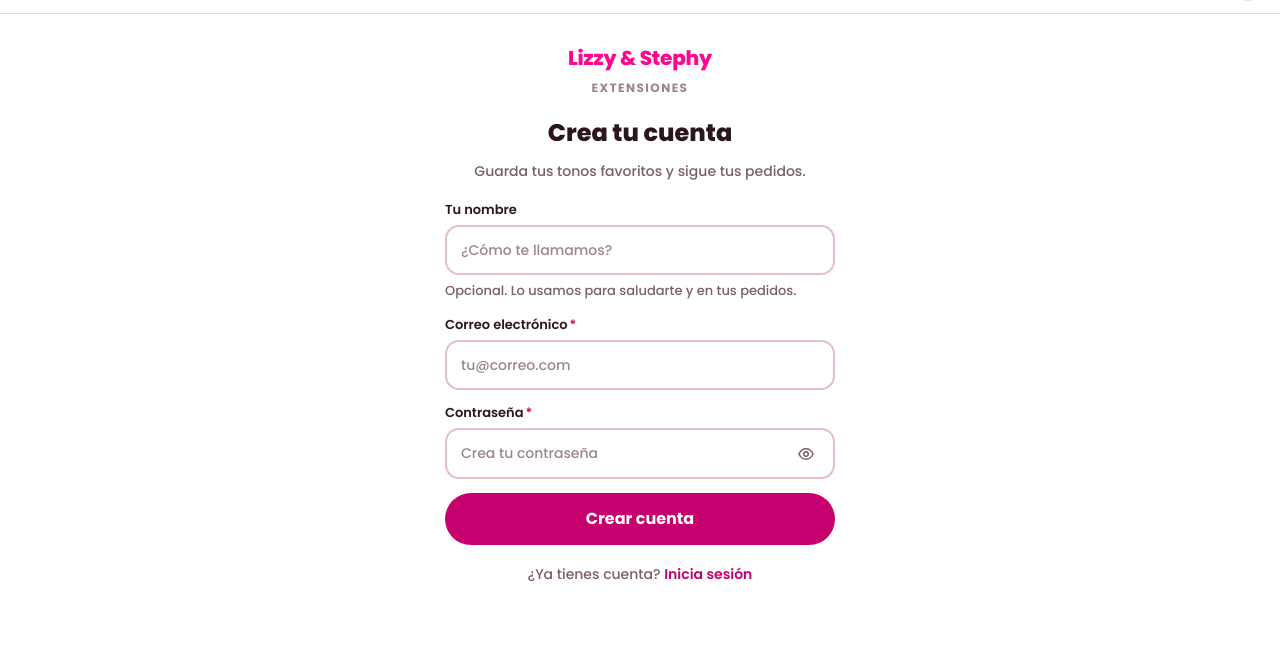
RegistroCliente · comprobación del correo › si ya tiene cuenta lo dice y ofrece iniciar sesión, sin mandar el alta
Type "ana@example.com" into the field labelled "Correo electrónico*".
click(640, 365); type("ana@example.com")  # box [461,342,819,388]
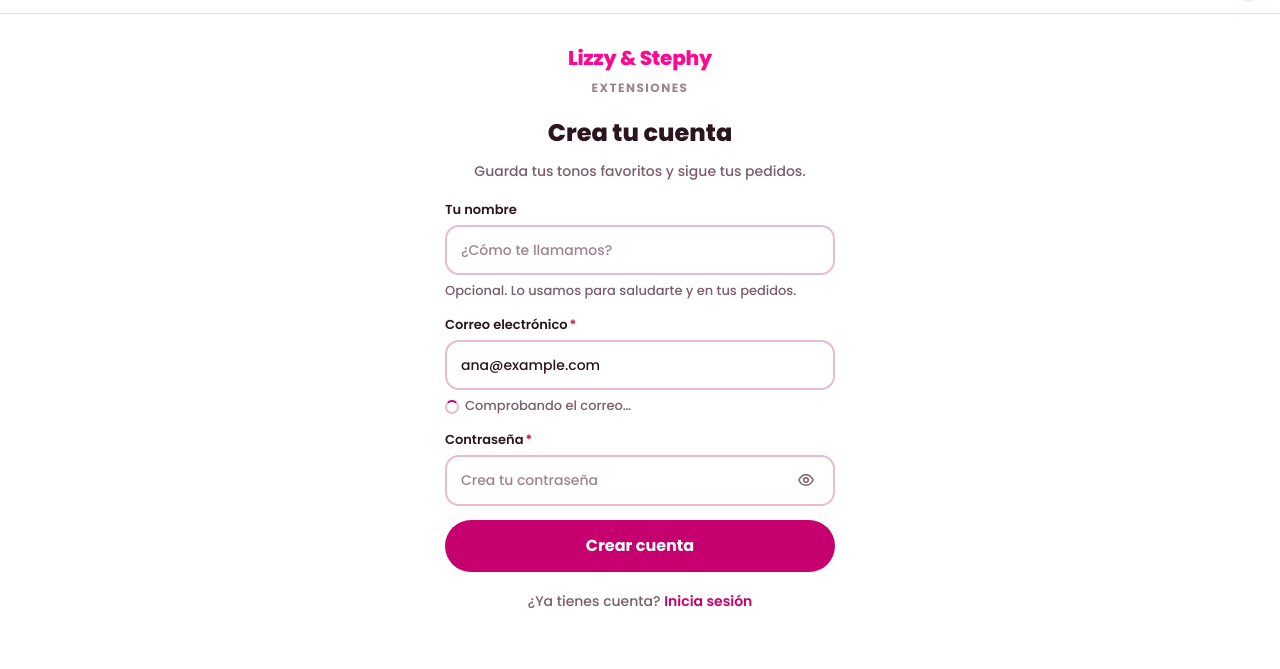
Type "bicicleta-verde-77" into the password field labelled "Contraseña*".
click(623, 480); type("bicicleta-verde-77")  # box [461,457,785,504]
(page scrolled)
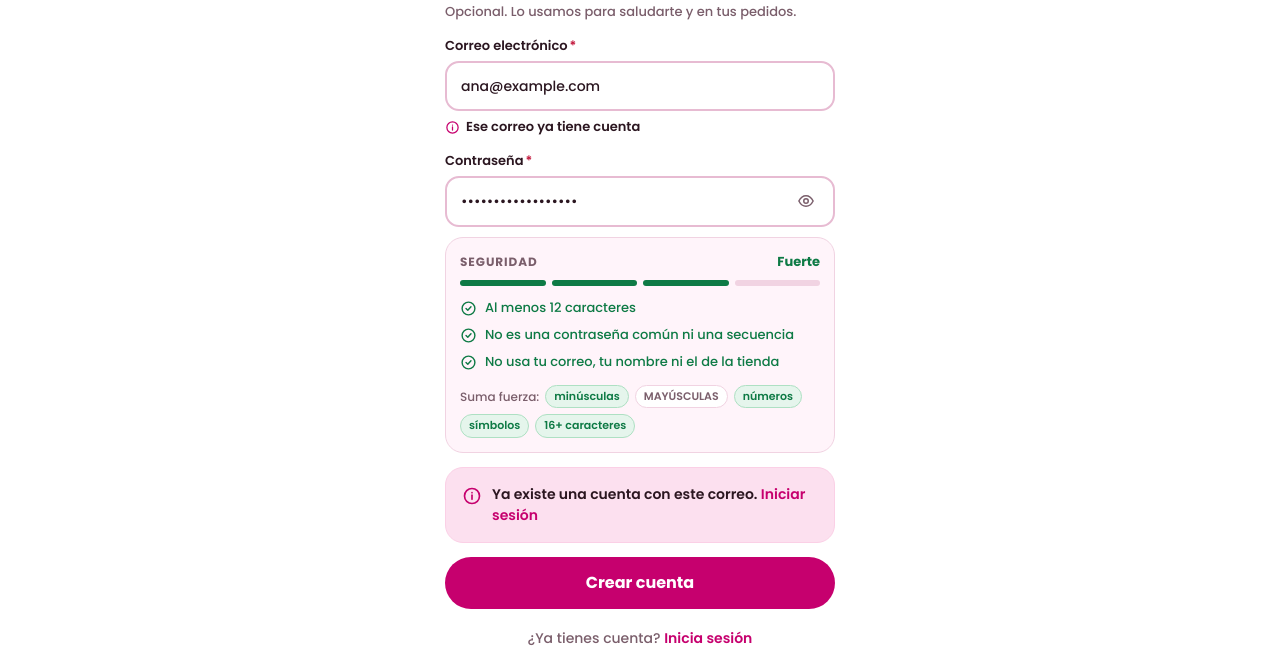
Expected: the text "Ese correo ya tiene cuenta" is shown, [466,117,640,138]
Expected: the link "Iniciar sesión" is shown, [492,484,805,525]
Click the button "Crear cuenta".
click(640, 583)  # box [445,557,835,609]
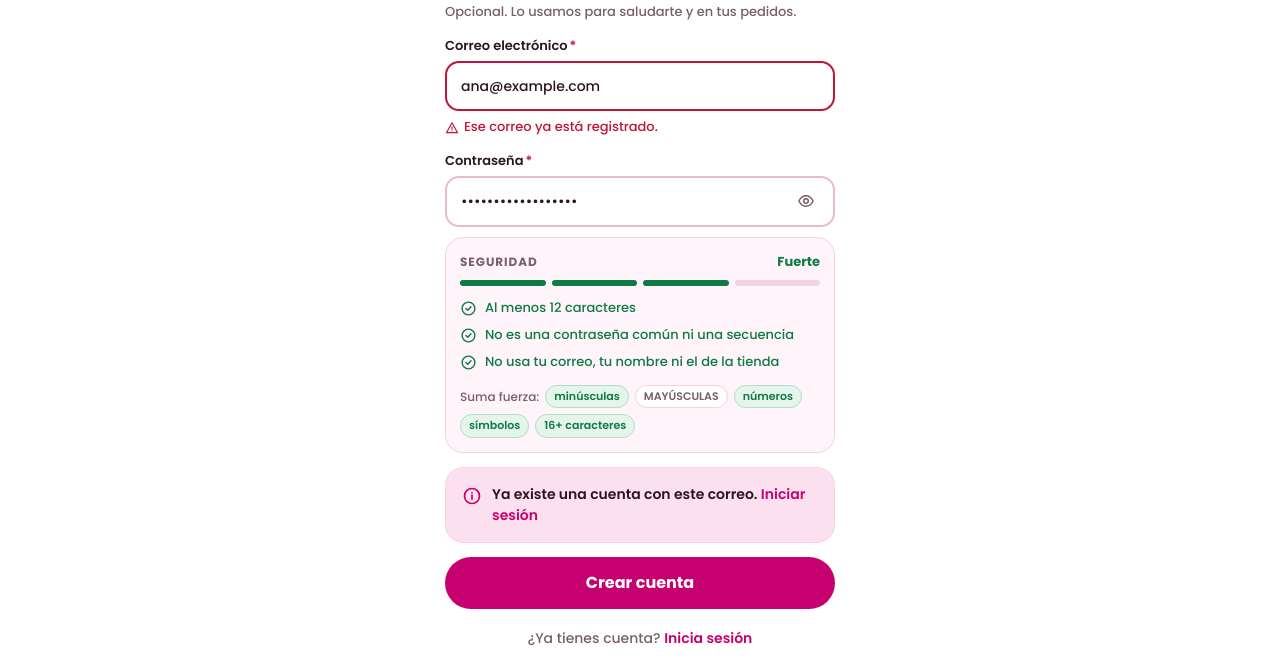
Expected: the text "Ese correo ya está registrado." is shown, [464,117,658,138]
